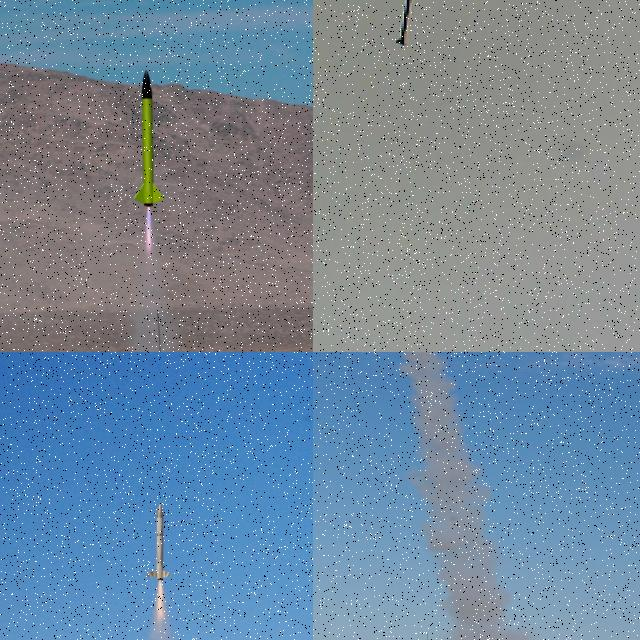Rocket: (134, 68, 163, 208), (146, 504, 171, 580), (395, 0, 413, 46)
